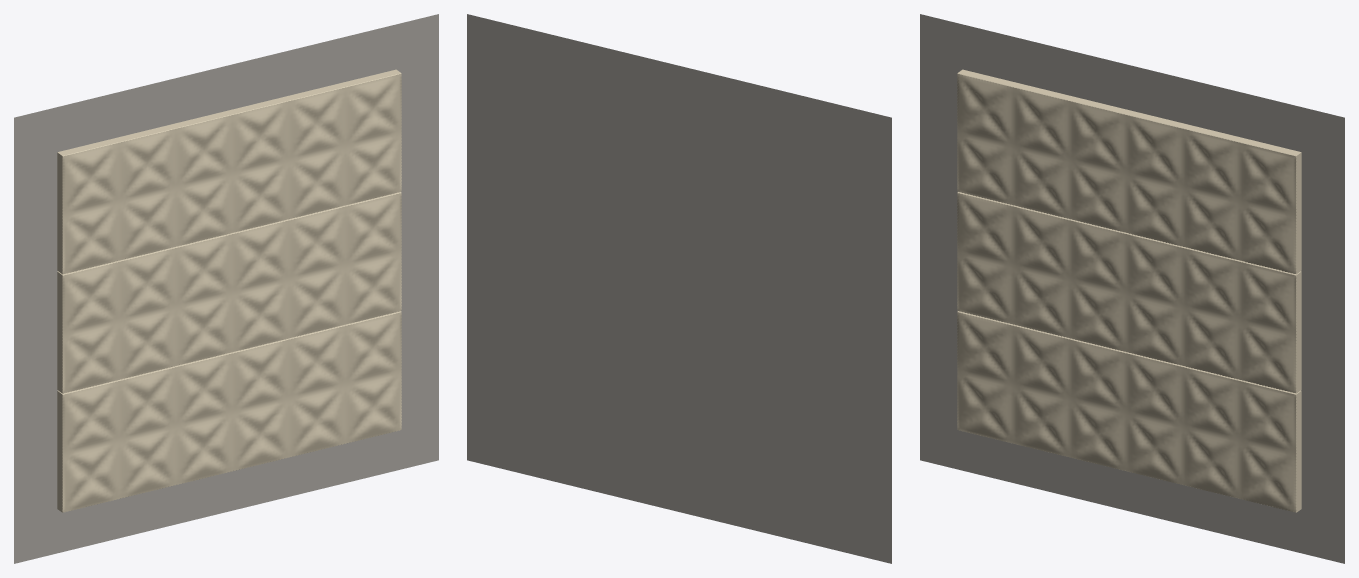
File: terilgan.glb
3 views of the same model, side by side, from view 1: azimuth 30°, elevation 25°; view 2: azimuth 150°, elevation 25°; view 3: azimuth 330°, elevation 25° (orthographic).
Visible parts, largest first — view 1: Plane, t2_0, t1_0, t0_0; view 2: Plane; view 3: Plane, t2_0, t1_0, t0_0.
Boxes of the visible parts, x1=… form: Plane: x1=14, y1=14, x2=438, y2=563; t2_0: x1=57, y1=69, x2=401, y2=274; t1_0: x1=57, y1=192, x2=401, y2=393; t0_0: x1=57, y1=311, x2=401, y2=512; Plane: x1=467, y1=14, x2=891, y2=563; Plane: x1=920, y1=14, x2=1344, y2=563; t2_0: x1=957, y1=69, x2=1301, y2=274; t1_0: x1=957, y1=192, x2=1301, y2=393; t0_0: x1=957, y1=311, x2=1301, y2=512.
Size of the model in its own units: 1.5 by 1.51 by 0.0451.
